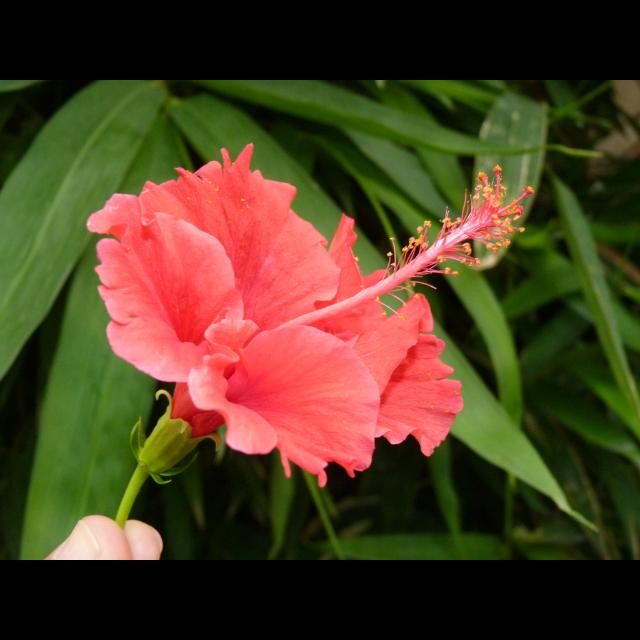Flower: (80, 157, 382, 441)
